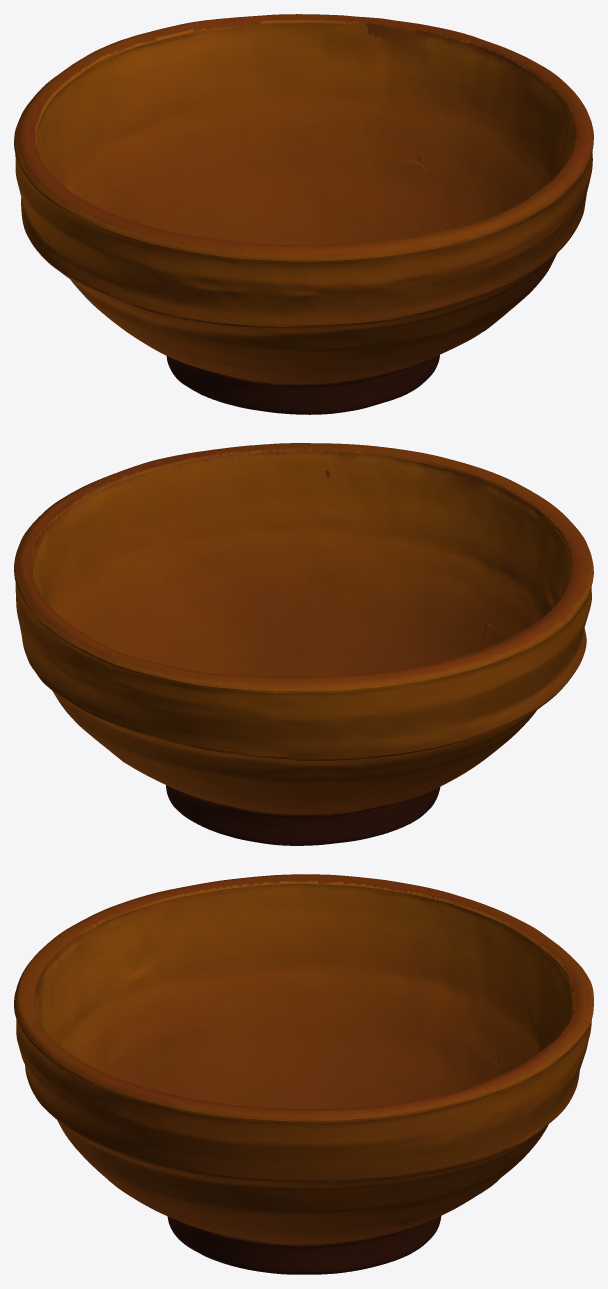
3 views of the same model, one above another, from view 1: azimuth 30°, elevation 25°; view 2: azimuth 150°, elevation 25°; view 3: azimuth 270°, elevation 25° (orthographic).
Parts seen in each view (by area): view 1: Hy21_Mesh.obj; view 2: Hy21_Mesh.obj; view 3: Hy21_Mesh.obj.
Boxes of the visible parts, x1,y1,x2,y2 form: Hy21_Mesh.obj: [14, 14, 593, 414]; Hy21_Mesh.obj: [14, 443, 593, 845]; Hy21_Mesh.obj: [14, 874, 593, 1274].
Size of the model in its own units: 1.95 by 0.846 by 1.95.
1 material, 1 textured.
